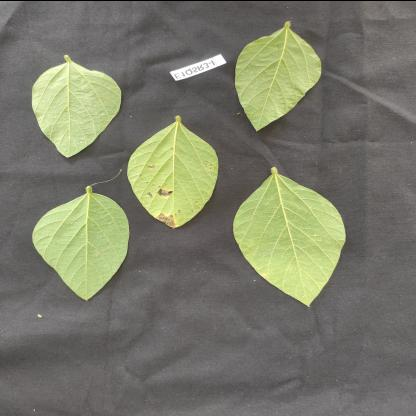label: (168, 53, 233, 83)
leaflets: (233, 160, 372, 324), (222, 16, 341, 134), (28, 183, 134, 315), (127, 96, 220, 238), (27, 36, 123, 158)
